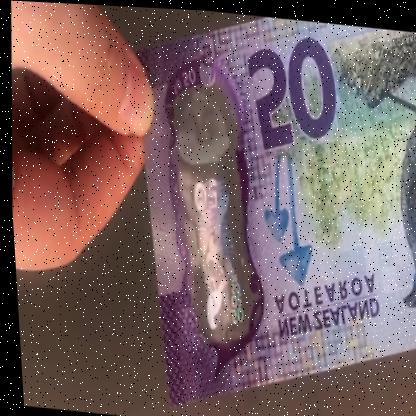50B: (164, 91, 252, 337)
